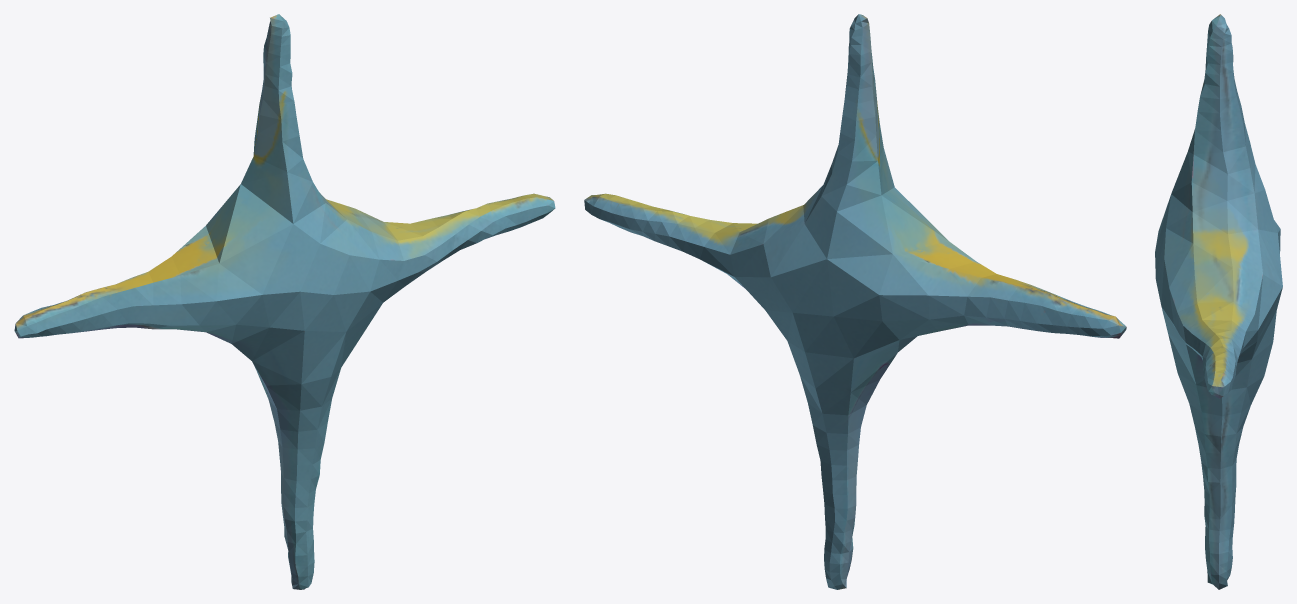
The model's file is Star_002.fbx.
3 renders of one model, left to right at view 1: azimuth 30°, elevation 25°; view 2: azimuth 150°, elevation 25°; view 3: azimuth 270°, elevation 25°, orthographic. The views are drawn at different scales.
Parts seen in each view (by area): view 1: Star.002; view 2: Star.002; view 3: Star.002.
Part boxes in pixels (x1=…): Star.002: x1=14, y1=14, x2=555, y2=589; Star.002: x1=584, y1=14, x2=1126, y2=589; Star.002: x1=1155, y1=14, x2=1282, y2=589.
Bounding box in the file's own units: 40.62 × 42 × 8.67.
